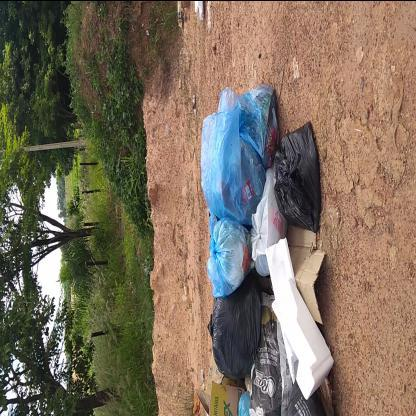lixo: (208, 103, 328, 414)
